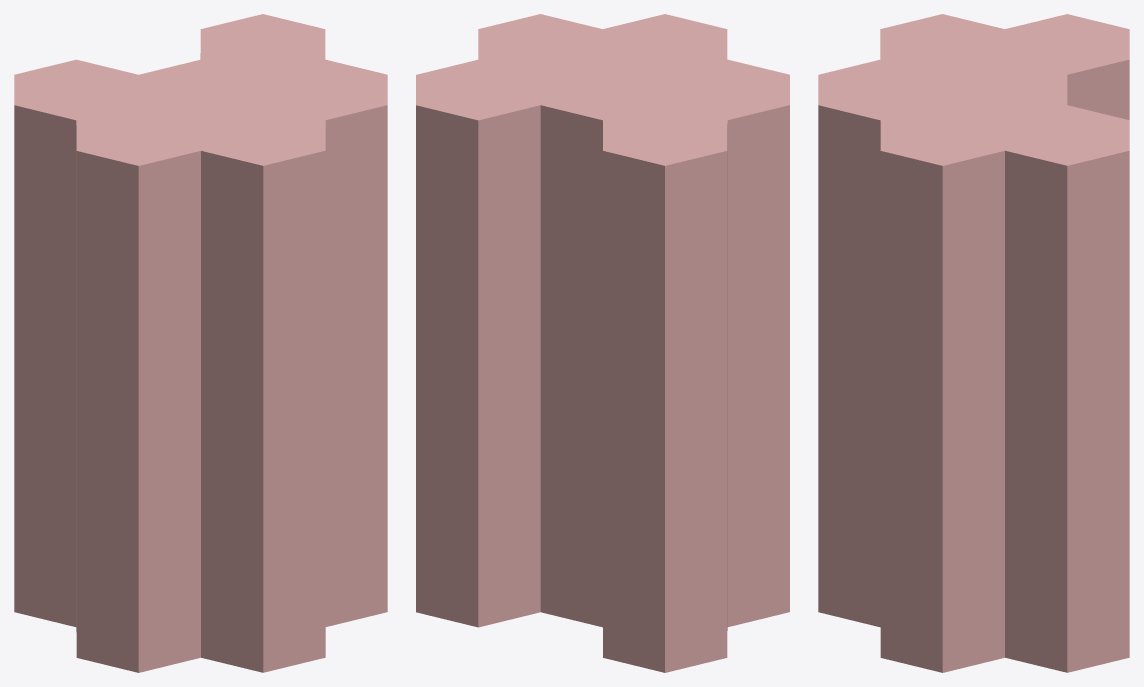
The model's file is level02_mapMovingPodium.fbx.
3 renders of one model, left to right at view 1: azimuth 30°, elevation 25°; view 2: azimuth 150°, elevation 25°; view 3: azimuth 270°, elevation 25°, orthographic.
Parts seen in each view (by area): view 1: level02_mapMovingPodium; view 2: level02_mapMovingPodium; view 3: level02_mapMovingPodium.
Boxes of the visible parts, x1=… form: level02_mapMovingPodium: x1=14, y1=14, x2=387, y2=672; level02_mapMovingPodium: x1=416, y1=14, x2=789, y2=672; level02_mapMovingPodium: x1=818, y1=14, x2=1129, y2=672.
Size of the model in its own units: 963 by 1498 by 834.
